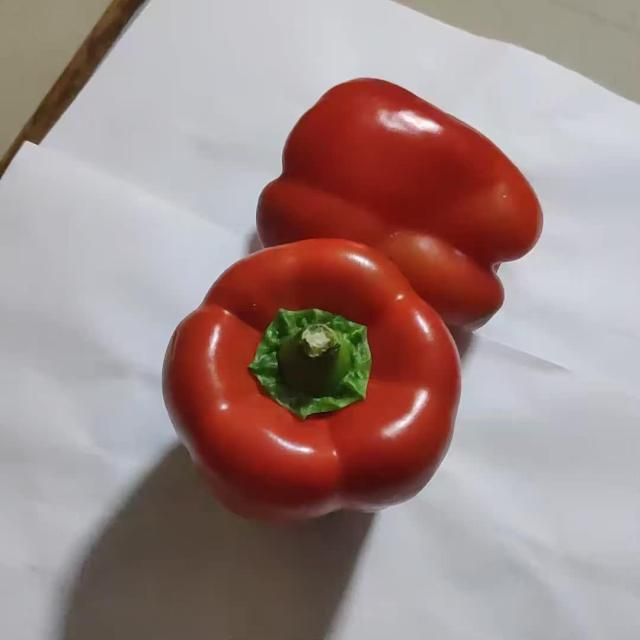Bell Pepper: (163, 239, 460, 517), (258, 78, 542, 329)
